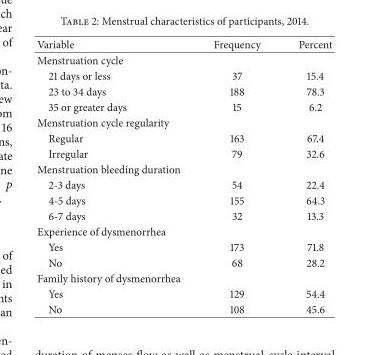table: (36, 36, 331, 316)
table column: (36, 36, 196, 316), (196, 36, 278, 316), (278, 36, 331, 316)
table column header: (36, 36, 331, 51)
table projected row header: (36, 51, 331, 67), (36, 160, 331, 176), (36, 269, 331, 285), (36, 114, 331, 129), (36, 223, 331, 238)
table row: (36, 51, 331, 67), (36, 67, 331, 83), (36, 98, 331, 114), (36, 129, 331, 145), (36, 160, 331, 176), (36, 176, 331, 192), (36, 207, 331, 223), (36, 238, 331, 254), (36, 269, 331, 285), (36, 285, 331, 301), (36, 36, 331, 51), (36, 83, 331, 98), (36, 114, 331, 129), (36, 145, 331, 160), (36, 192, 331, 207), (36, 223, 331, 238), (36, 254, 331, 269), (36, 301, 331, 316)
